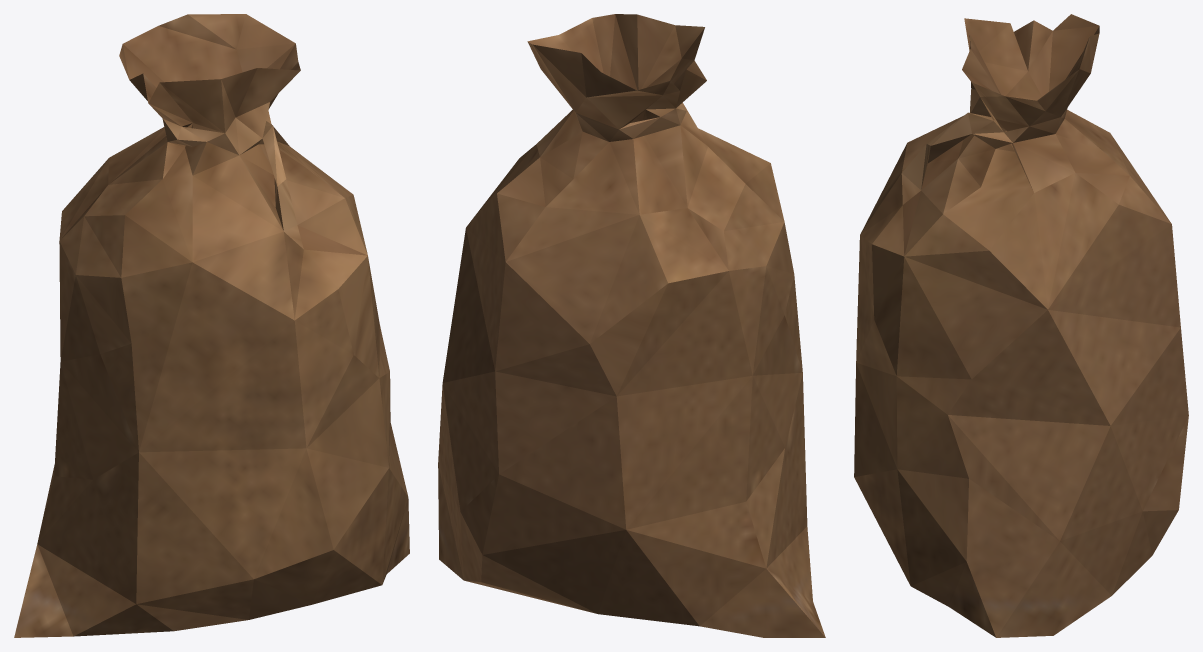
File: prop_sack.glb
3 renders of one model, left to right at view 1: azimuth 30°, elevation 25°; view 2: azimuth 150°, elevation 25°; view 3: azimuth 270°, elevation 25°, orthographic. The views are drawn at different scales.
Visible parts, largest first — view 1: lp.obj; view 2: lp.obj; view 3: lp.obj.
Boxes of the visible parts, <box> form: lp.obj: <box>14,14,409,637</box>; lp.obj: <box>438,14,825,637</box>; lp.obj: <box>854,14,1188,637</box>.
Bounding box in the file's own units: 0.4259 × 0.5976 × 0.3399.
1 material, 1 textured.
